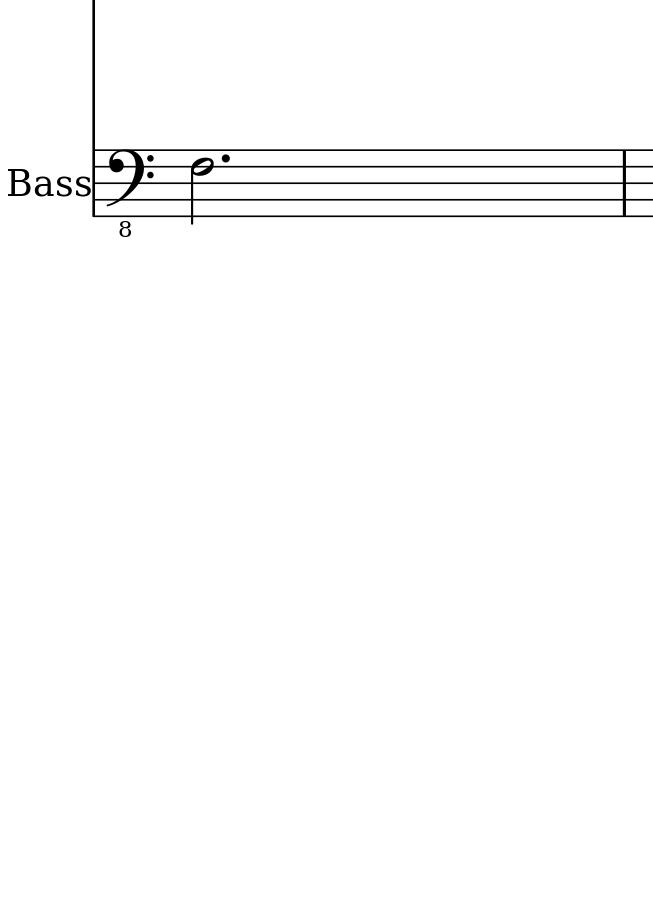2_6: (188, 149, 216, 228)
Bass: (4, 161, 90, 201)
Lower_Fclef: (104, 146, 155, 239)
Single_barline: (617, 147, 635, 215), (88, 146, 101, 221)
dot: (216, 148, 235, 169), (219, 151, 231, 165)
